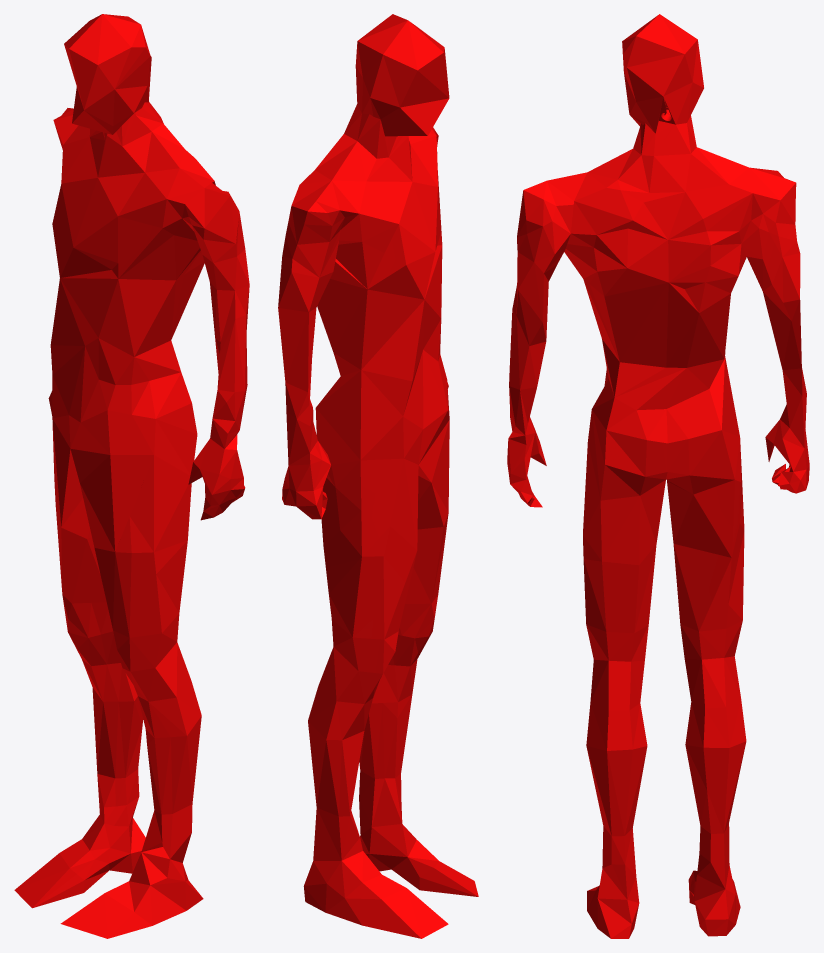
File: flipped bro please dont get a fracture.fbx
3 views of the same model, side by side, from view 1: azimuth 30°, elevation 25°; view 2: azimuth 150°, elevation 25°; view 3: azimuth 270°, elevation 25° (orthographic).
Parts seen in each view (by area): view 1: middle enemy; view 2: middle enemy; view 3: middle enemy.
Boxes of the visible parts, box(x1,y1,x2,y2) form: middle enemy: box(14, 14, 249, 938); middle enemy: box(278, 14, 478, 938); middle enemy: box(507, 14, 809, 938).
Bounding box in the file's own units: 116 × 695 × 214.
